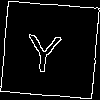Y: (25, 25, 64, 74)
